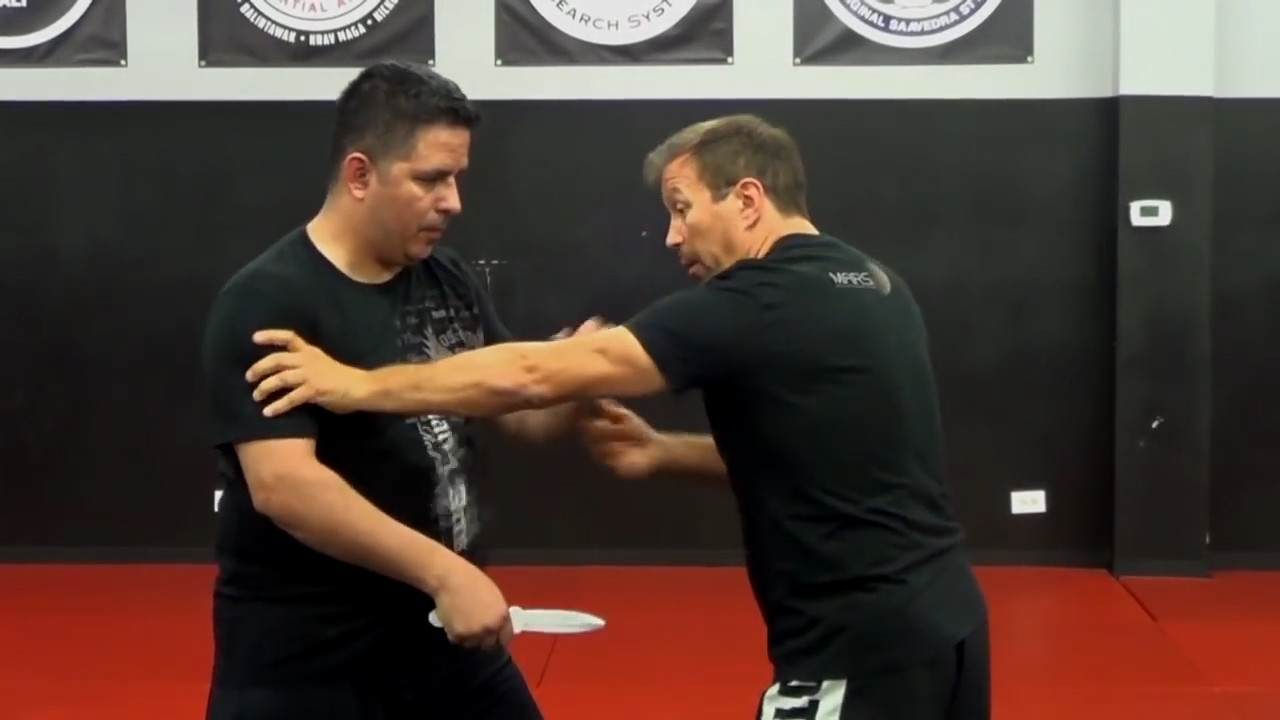knife: (418, 590, 622, 646)
